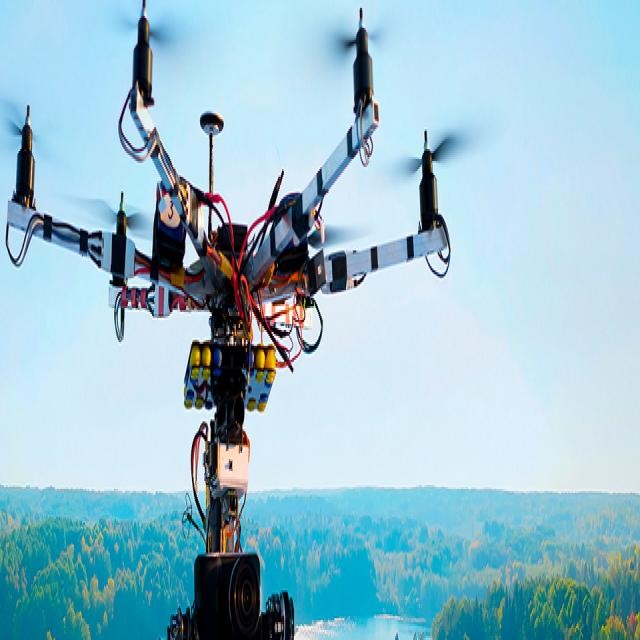drone: (0, 0, 502, 479)
